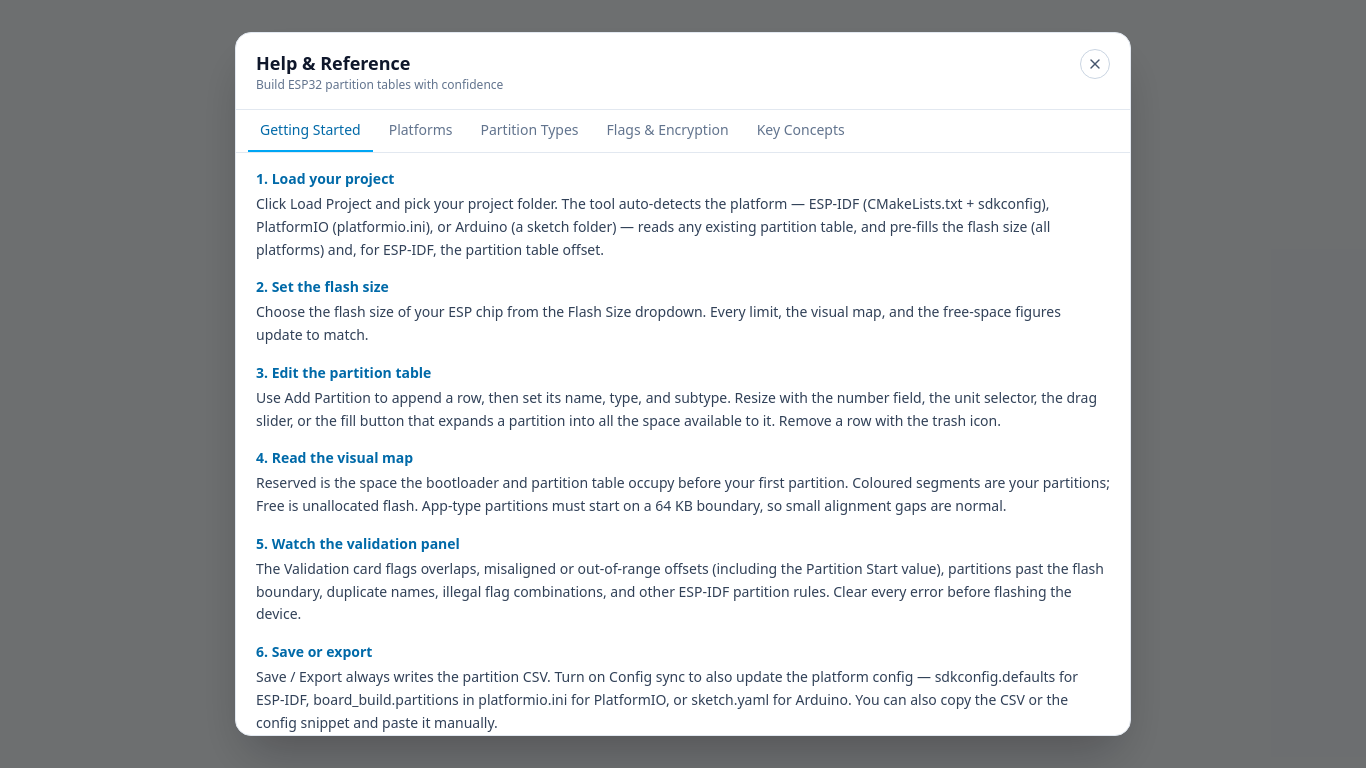
Test case: HelpModal › switches to the Flags & Encryption tab and covers both flags
This screenshot has width=1366, height=768.
Click the tab "Flags & Encryption" at (668, 131), box [595,110,741,152]
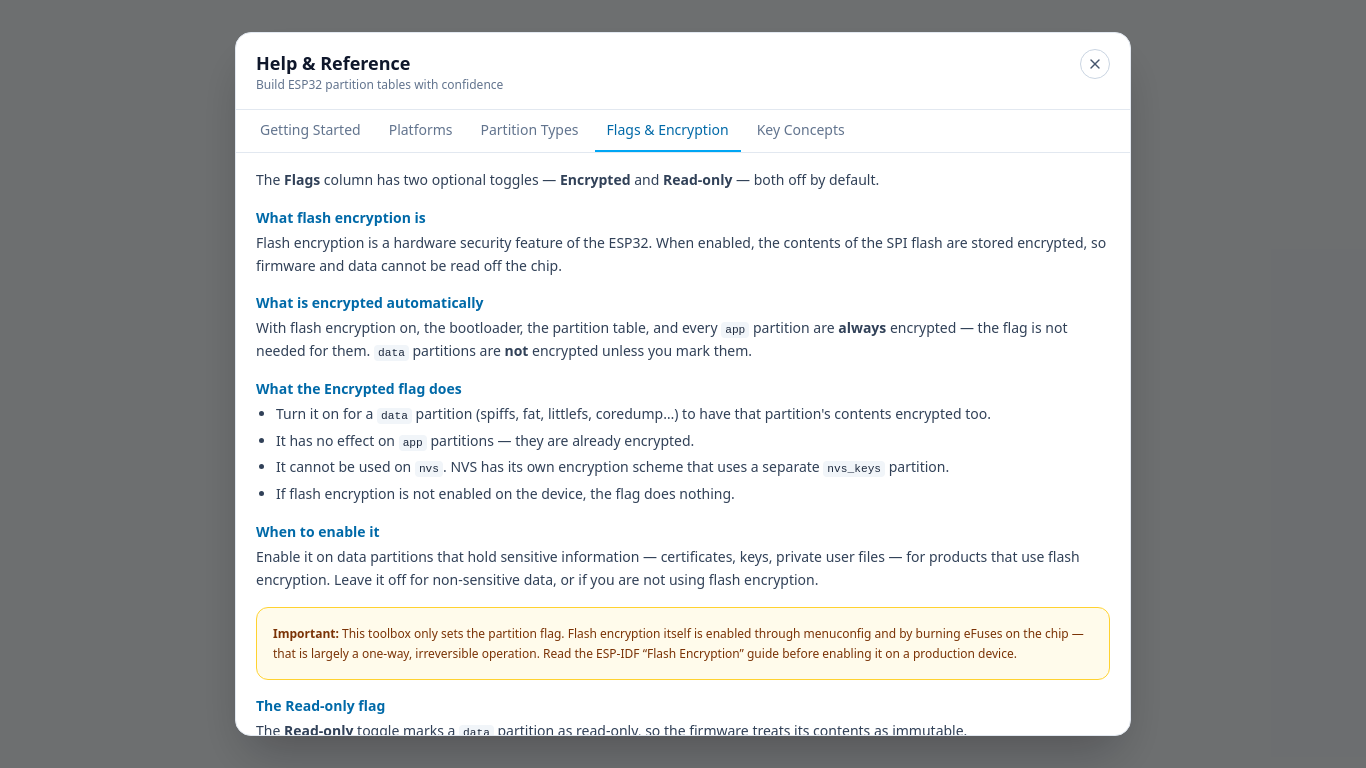
Check: the heading "What flash encryption is" is shown, box [256,208,426,227]
Check: the heading "The Read-only flag" is shown, box [256,696,385,715]
